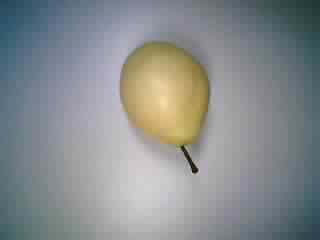pear: (110, 35, 225, 181)
